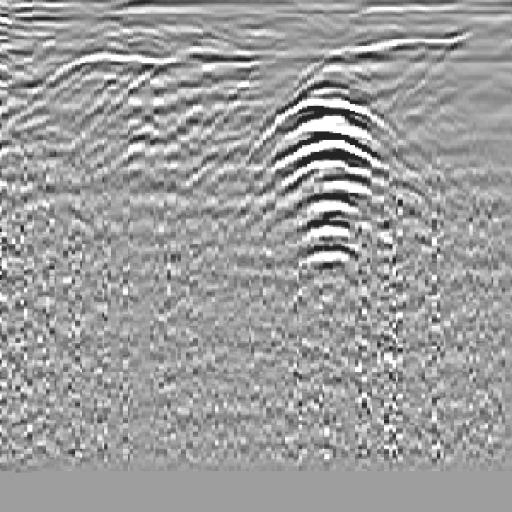metalic: (250, 75, 419, 293)
